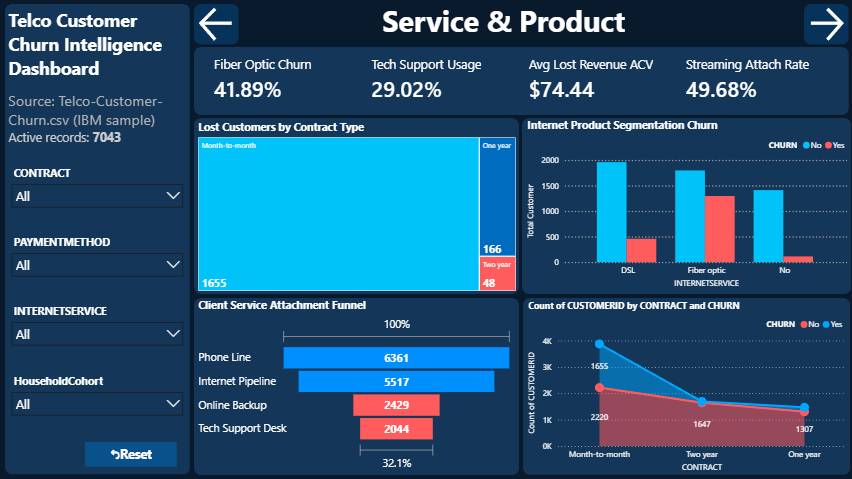

The page's visual inventory and layout, read from the dashboard file:
{"tool":"powerbi","page":{"name":"Service & Product","canvas":[1280,720],"ordinal":2},"visuals":[{"type":"group","id":"g1","title":"Group 1","box":[0,0,1280.2,720],"z":0},{"type":"shape","box":[0,0,1280.2,720],"z":0,"group":"g1"},{"type":"slicer","fields":{"Values":["TELCO_CUSTOMER_CHURN.CONTRACT"]},"box":[10.5,245,276.3,103.4],"z":0,"group":"g2"},{"type":"shape","box":[10.4,9.6,276.5,702.6],"z":1000,"group":"g1"},{"type":"slicer","fields":{"Values":["TELCO_CUSTOMER_CHURN.INTERNETSERVICE"]},"box":[10.5,451.7,276.3,103.4],"z":1000,"group":"g2"},{"type":"actionButton","box":[130,663.2,137.4,37.3],"z":1000},{"type":"textbox","box":[569.1,0,427.2,76.2],"z":2000},{"type":"shape","box":[292.8,73.2,978.4,101.6],"z":2000,"group":"g1"},{"type":"slicer","fields":{"Values":["TELCO_CUSTOMER_CHURN.PAYMENTMETHOD"]},"box":[10.5,348.4,276.3,103.4],"z":2000,"group":"g2"},{"type":"shape","box":[293,179.5,485.5,263],"z":3000,"group":"g1"},{"type":"group","id":"g2","title":"Group 2","box":[10.5,245,276.3,404.8],"z":3000},{"type":"slicer","fields":{"Values":["TELCO_CUSTOMER_CHURN.HouseholdCohort"]},"box":[10.5,555.1,276.3,94.7],"z":3000,"group":"g2"},{"type":"shape","box":[782.5,179.5,492,263],"z":4000,"group":"g1"},{"type":"treemap","title":"Lost Customers by Contract Type","fields":{"Group":["TELCO_CUSTOMER_CHURN.CONTRACT"],"Values":["CountNonNull(TELCO_CUSTOMER_CHURN.CUSTOMERID)"]},"box":[294.3,182.2,484,259.9],"z":4000},{"type":"clusteredColumnChart","title":"Internet Product Segmentation Churn","fields":{"Y":["TELCO_CUSTOMER_CHURN.Total Customer"],"Series":["TELCO_CUSTOMER_CHURN.CHURN"],"Category":["TELCO_CUSTOMER_CHURN.INTERNETSERVICE"]},"box":[785.7,179.3,488.5,258.4],"z":5000},{"type":"shape","box":[784.9,447.9,489,264.4],"z":5000,"group":"g1"},{"type":"funnel","title":"Client Service Attachment Funnel","fields":{"Category":["Stage.Stage"],"Y":["Stage.Stage Customer Count"]},"box":[294.3,447.7,479.5,263.6],"z":6000},{"type":"shape","box":[292.7,447.8,485.7,264.6],"z":6000,"group":"g1"},{"type":"textbox","box":[10.5,9,276.3,236],"z":7000},{"type":"actionButton","box":[293,9.5,66.9,60.6],"z":8000},{"type":"actionButton","box":[1204.2,9.5,66.9,60.6],"z":9000},{"type":"cardVisual","fields":{"Data":["TELCO_CUSTOMER_CHURN.Fiber Optic Churn","TELCO_CUSTOMER_CHURN.Tech Support Usage","TELCO_CUSTOMER_CHURN.Avg Lost Revenue ACV","TELCO_CUSTOMER_CHURN.Streaming Attach Rate"]},"box":[301.7,73.2,969.5,95.6],"z":10000},{"type":"stackedAreaChart","fields":{"Category":["TELCO_CUSTOMER_CHURN.CONTRACT"],"Series":["TELCO_CUSTOMER_CHURN.CHURN"],"Y":["CountNonNull(TELCO_CUSTOMER_CHURN.CUSTOMERID)"]},"box":[787,451,483.7,261.3],"z":11000}]}

Visuals, with their boxes in screenshot pixels (x1, y1, x2, y2), scaled from the page's 1280x720 canvas onto the 852x479 screenshot:
"Group 1" group: region(0, 0, 851, 478)
shape: region(0, 0, 851, 478)
slicer - TELCO_CUSTOMER_CHURN.CONTRACT: region(7, 163, 191, 232)
shape: region(7, 6, 191, 474)
slicer - TELCO_CUSTOMER_CHURN.INTERNETSERVICE: region(7, 301, 191, 369)
actionButton: region(87, 441, 178, 466)
textbox: region(379, 0, 663, 51)
shape: region(195, 49, 846, 116)
slicer - TELCO_CUSTOMER_CHURN.PAYMENTMETHOD: region(7, 232, 191, 301)
shape: region(195, 119, 518, 294)
"Group 2" group: region(7, 163, 191, 432)
slicer - TELCO_CUSTOMER_CHURN.HouseholdCohort: region(7, 369, 191, 432)
shape: region(521, 119, 848, 294)
"Lost Customers by Contract Type" treemap: region(196, 121, 518, 294)
"Internet Product Segmentation Churn" clusteredColumnChart: region(523, 119, 848, 291)
shape: region(522, 298, 848, 474)
"Client Service Attachment Funnel" funnel: region(196, 298, 515, 473)
shape: region(195, 298, 518, 474)
textbox: region(7, 6, 191, 163)
actionButton: region(195, 6, 240, 47)
actionButton: region(802, 6, 846, 47)
cardVisual - TELCO_CUSTOMER_CHURN.Fiber Optic Churn x TELCO_CUSTOMER_CHURN.Tech Support Usage: region(201, 49, 846, 112)
stackedAreaChart - TELCO_CUSTOMER_CHURN.CONTRACT x TELCO_CUSTOMER_CHURN.CHURN: region(524, 300, 846, 474)
